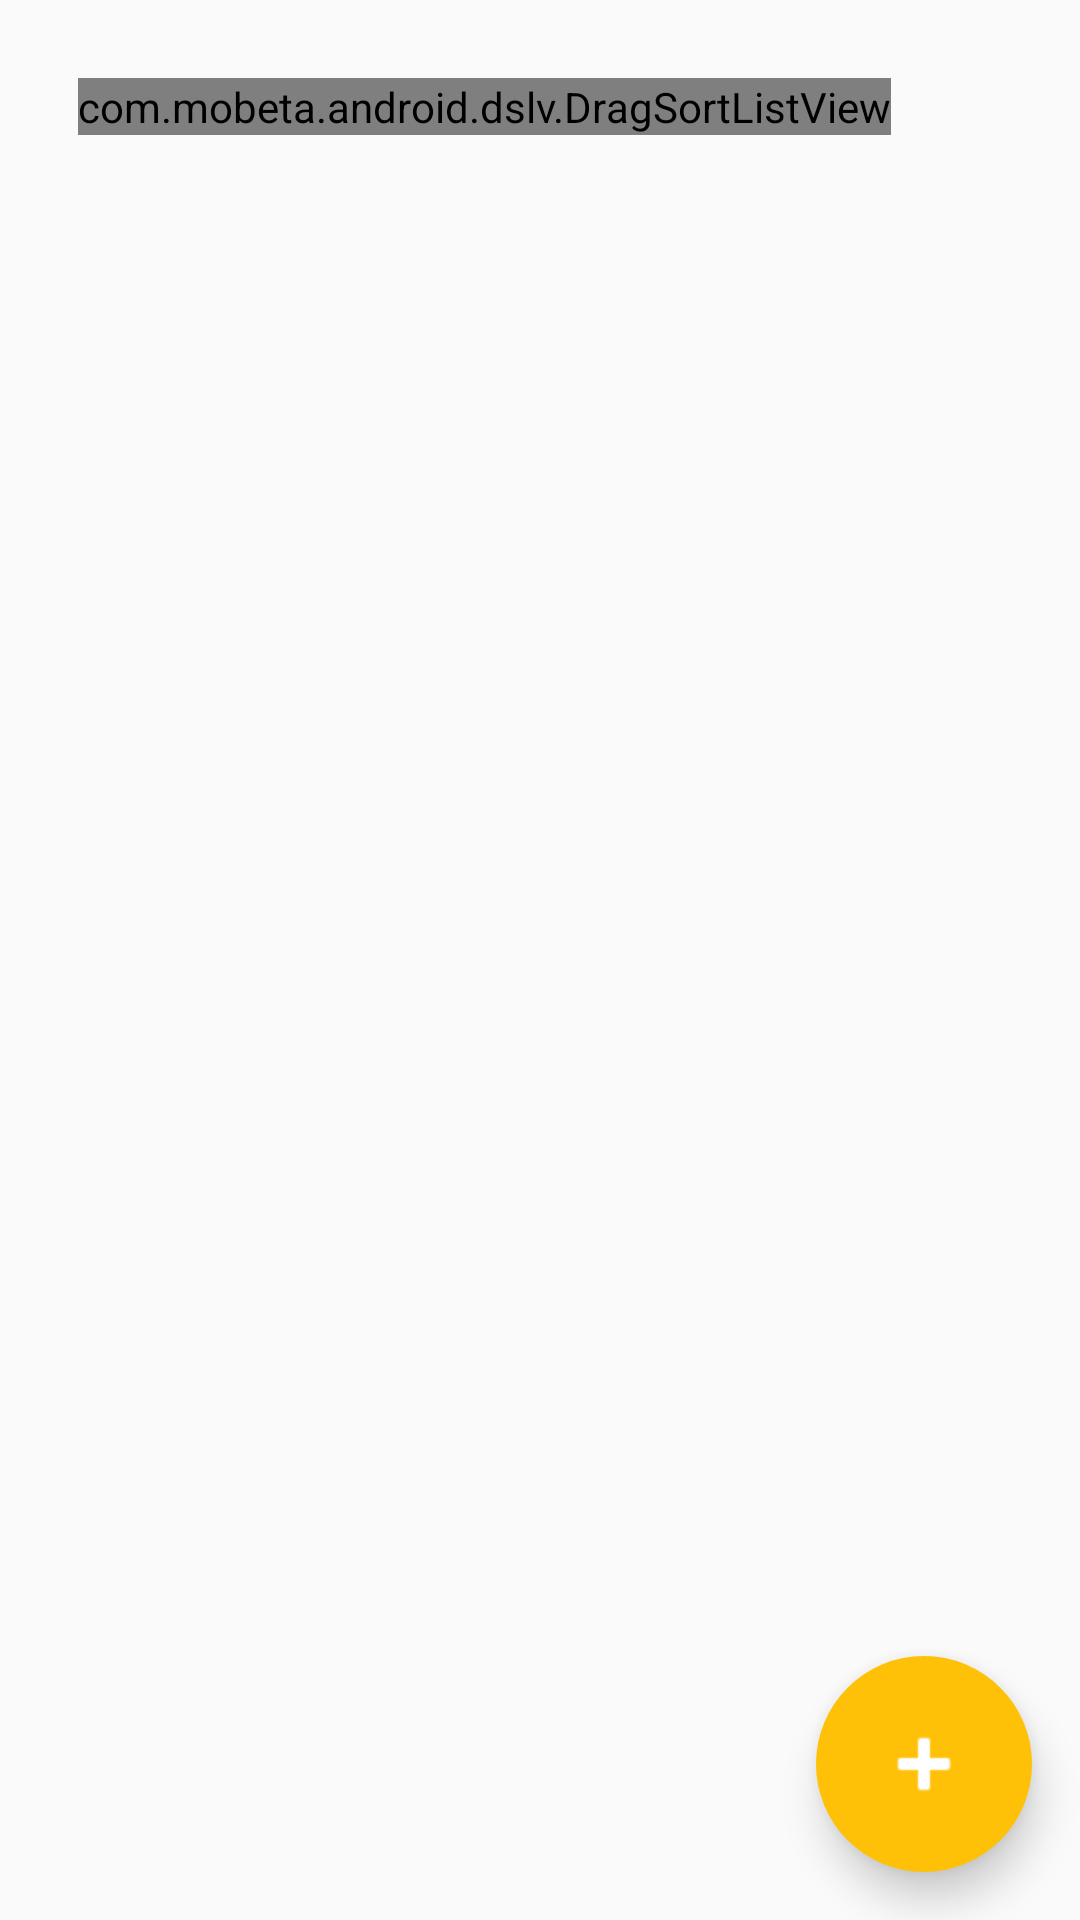

Icons on this 1080 x 1920 Android screen, each with its box as (x1, y1, x2, y2):
Add profile: (816, 1656, 1032, 1872)
